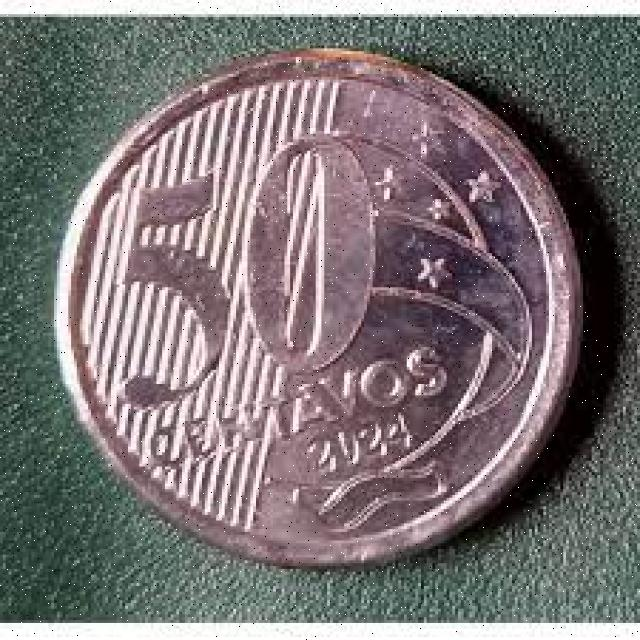50 cent: (55, 44, 589, 564)
